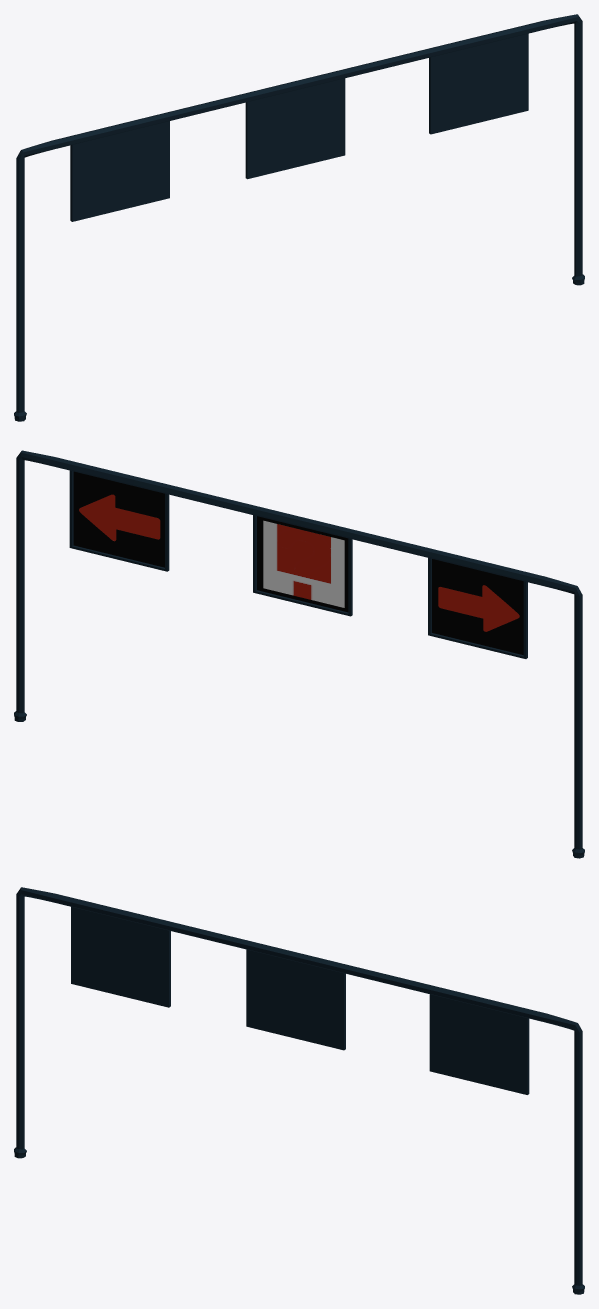
The model's file is semafor.fbx.
3 renders of one model, top to bottom at view 1: azimuth 30°, elevation 25°; view 2: azimuth 150°, elevation 25°; view 3: azimuth 330°, elevation 25°, orthographic.
Parts seen in each view (by area): view 1: semaforo3; view 2: semaforo3; view 3: semaforo3.
Part boxes in pixels (left/top/right/bottom): semaforo3: left=14, top=14, right=584, bottom=421; semaforo3: left=14, top=450, right=584, bottom=858; semaforo3: left=14, top=887, right=584, bottom=1294.
Size of the model in its own units: 399 by 181 by 6.93.
4 materials, 2 textured.
